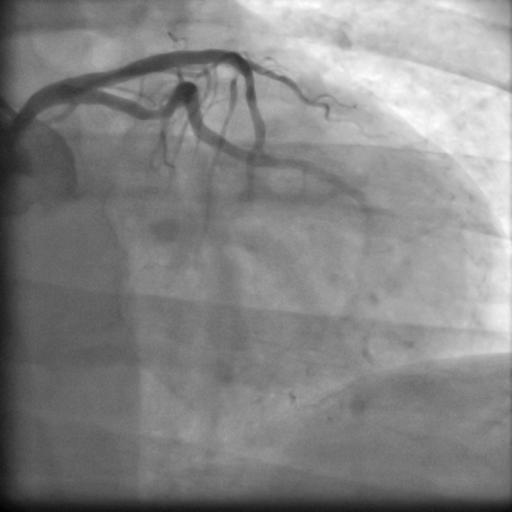Stenosis: (143, 104, 160, 122)
